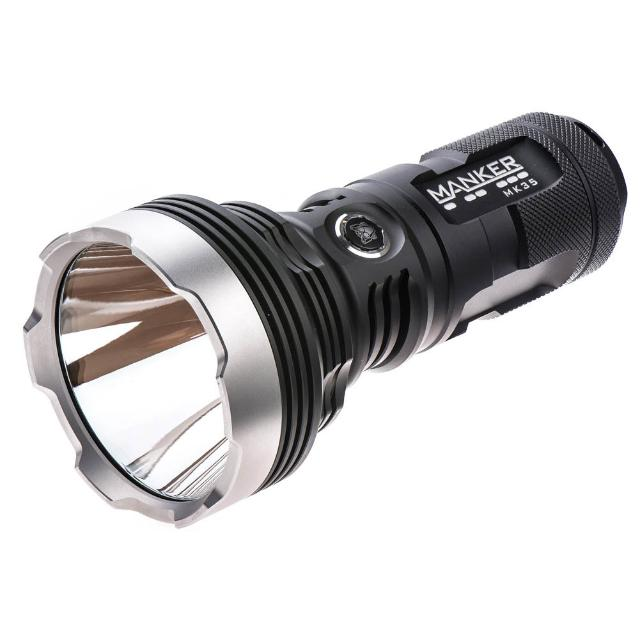Flashlight: (10, 99, 634, 539)
